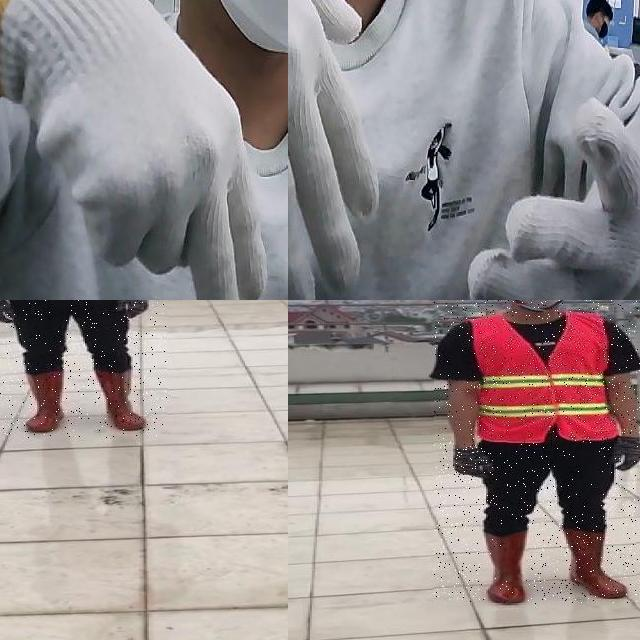BOOTS: (560, 526, 636, 599), (481, 526, 529, 603), (92, 370, 146, 433), (19, 373, 73, 433)
GLOVE: (0, 0, 267, 300), (466, 39, 640, 300), (288, 0, 382, 300), (453, 445, 496, 479), (610, 435, 640, 473), (116, 300, 152, 322), (0, 300, 22, 335)
VEST: (466, 314, 614, 443)
